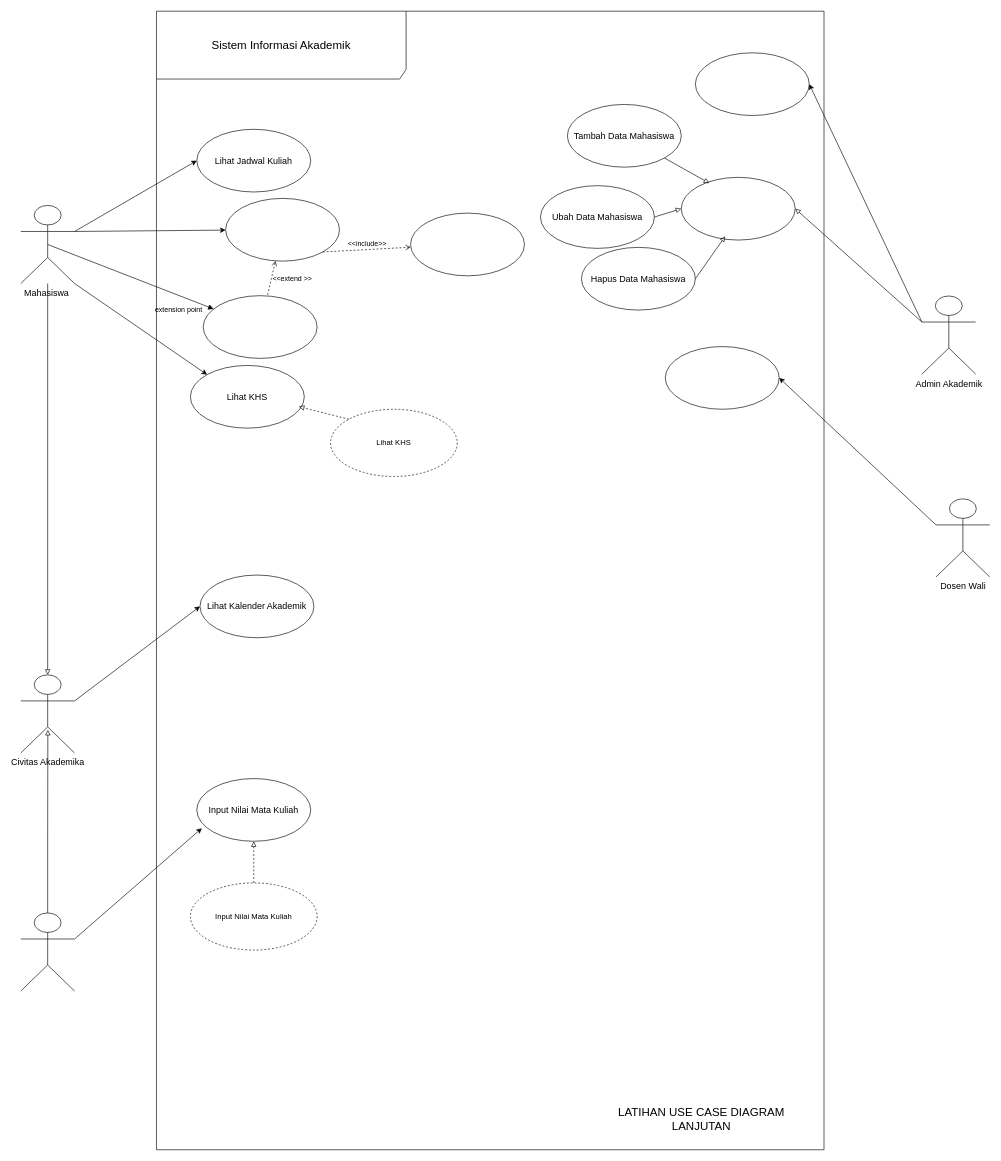
The diagram is 1001 pixels wide and 1161 high, and some of its shapes have lost their labels. Here are the shapes that lost their labels. From the top down, the box of each, then its label:
(695, 52, 809, 116): Kelola Jadwal Kuliah
(681, 177, 795, 240): Kelola Data Mahasiswa
(225, 198, 340, 261): Ajukan KRS
(410, 212, 524, 276): Validasi KRS
(203, 295, 317, 358): Unduh Bukti Pengajuan KRS
(665, 346, 779, 409): Proses Keputusan KRS
(20, 912, 75, 991): Dosen
